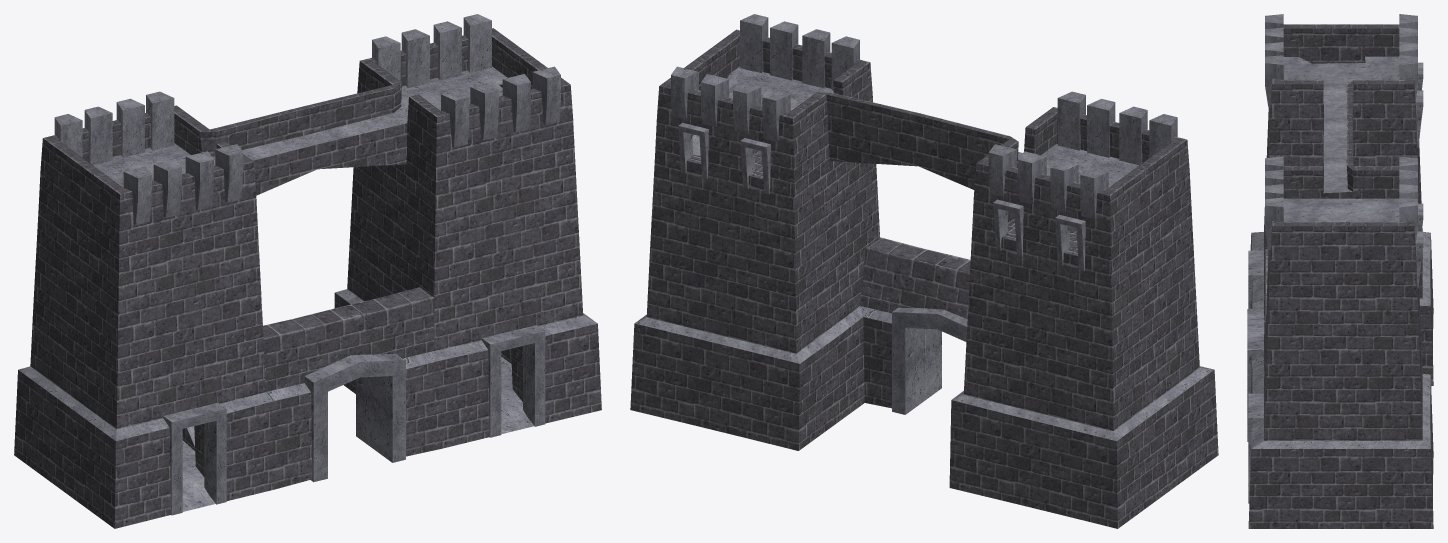
Rendered from towerF.FBX.
3 views of the same model, side by side, from view 1: azimuth 30°, elevation 25°; view 2: azimuth 150°, elevation 25°; view 3: azimuth 270°, elevation 25° (orthographic). The views are drawn at different scales.
Visible parts, largest first — view 1: tower_F; view 2: tower_F; view 3: tower_F.
Boxes of the visible parts, left/top/right/bottom form: tower_F: left=14, top=14, right=601, bottom=528; tower_F: left=630, top=14, right=1218, bottom=528; tower_F: left=1247, top=14, right=1433, bottom=528.
Bounding box in the file's own units: 36.6 × 24.24 × 13.19.
